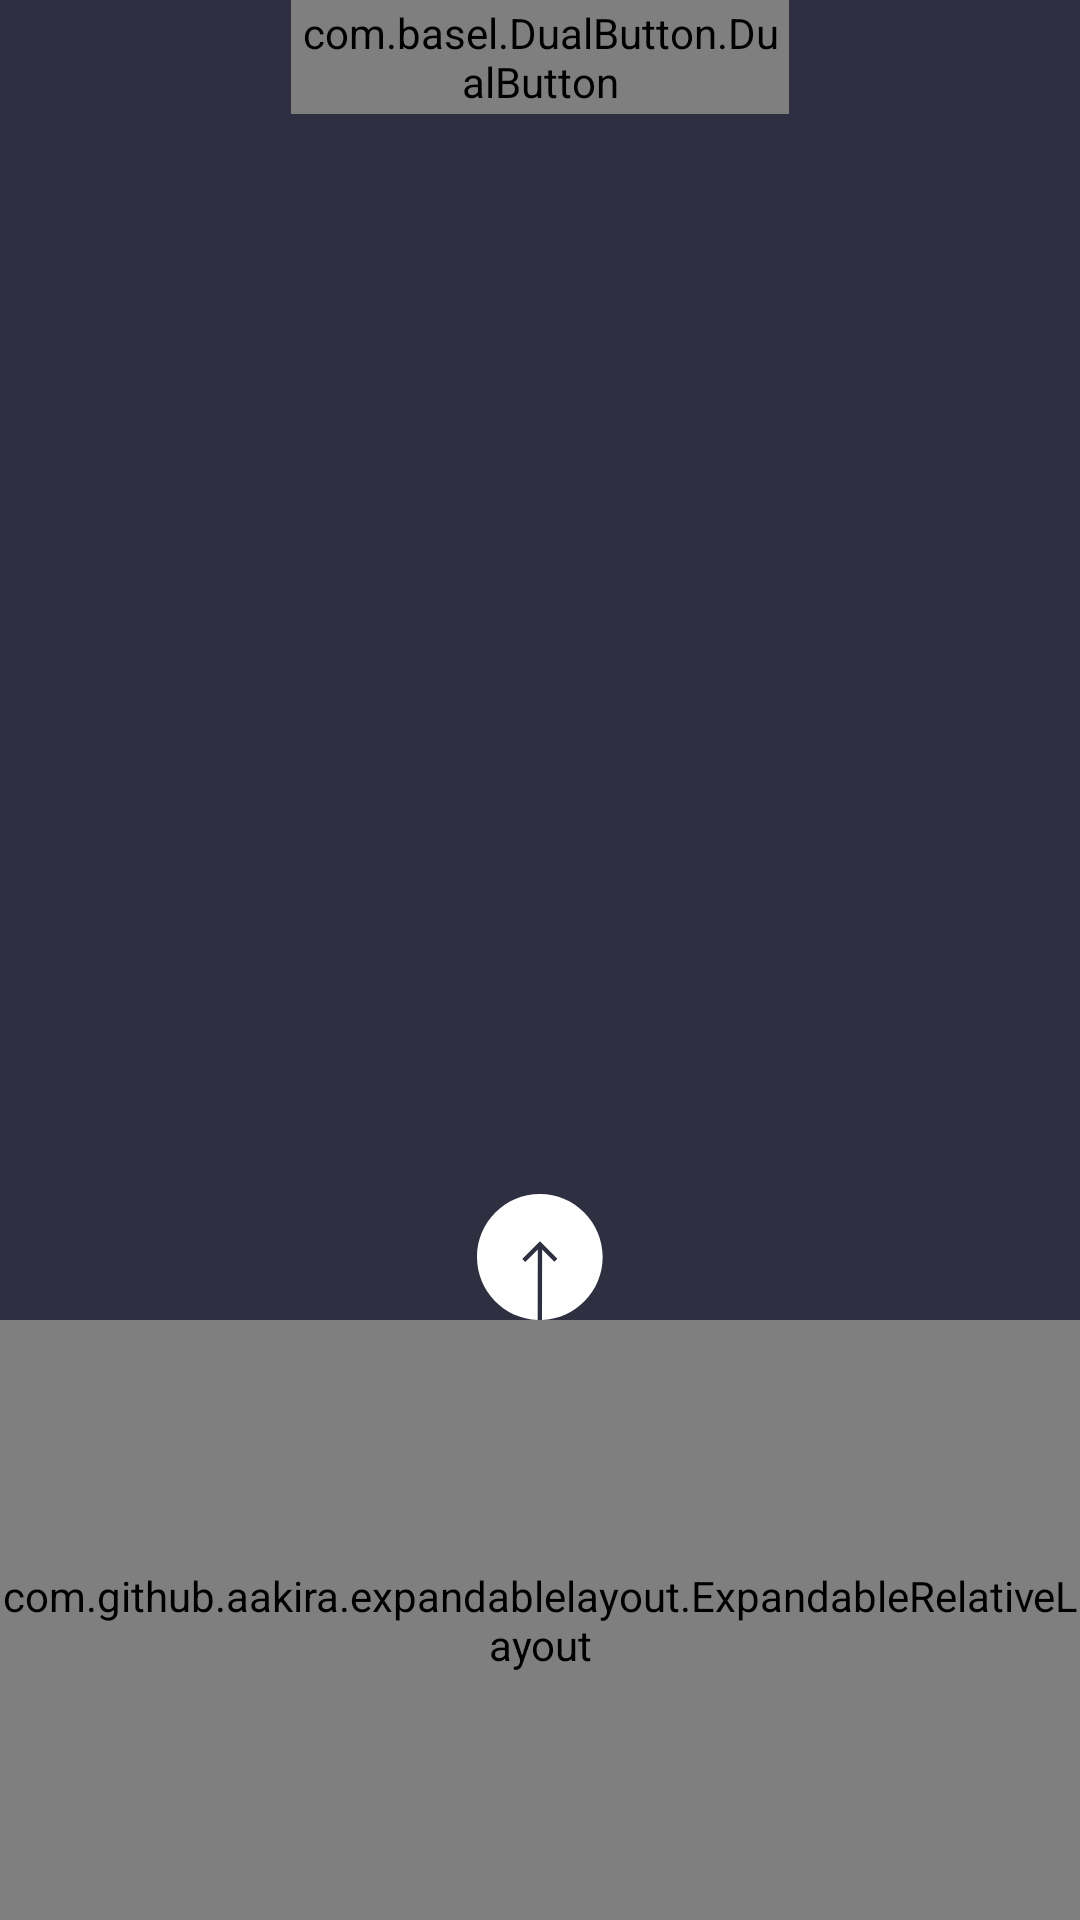

Icon click points for this 1080 × 1920 phone screenshot, format (x=x, y=y):
arrow up: (x=540, y=1257)
